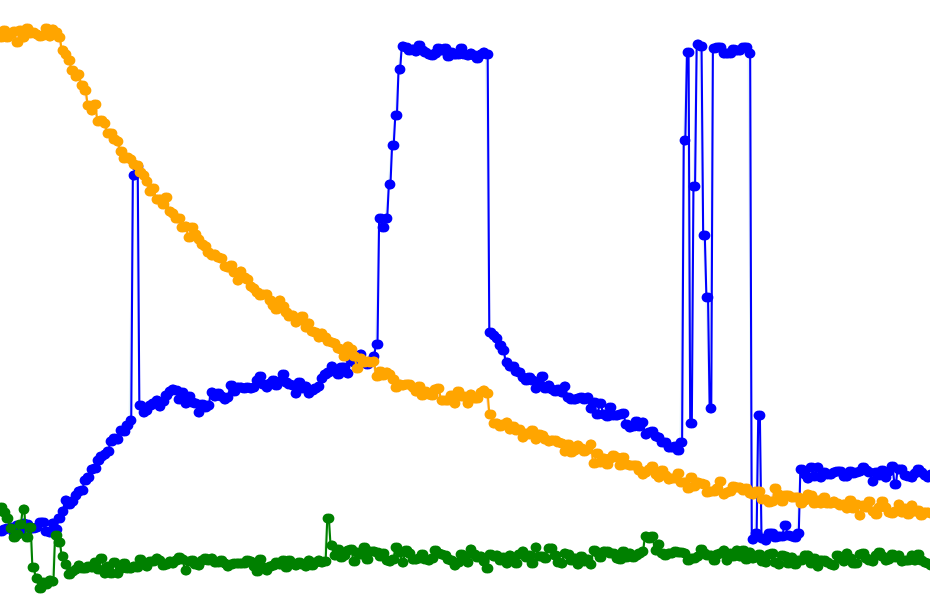CO2 Problem: (311, 0, 738, 616), (738, 0, 930, 616), (155, 0, 311, 616), (38, 0, 155, 616)
Condensation CO2: (38, 0, 311, 616), (388, 0, 583, 616), (738, 0, 930, 616), (777, 0, 930, 616), (311, 0, 388, 616), (661, 0, 738, 616)
Condensation O2: (777, 0, 930, 616), (622, 0, 738, 616), (311, 0, 388, 616)
High CO2: (349, 0, 505, 616), (622, 0, 738, 616)
High O2: (38, 0, 311, 616), (311, 0, 505, 616), (155, 0, 311, 616), (777, 0, 930, 616), (38, 0, 155, 616)
Low CO2: (311, 0, 738, 616), (311, 0, 622, 616), (311, 0, 505, 616), (738, 0, 930, 616), (155, 0, 311, 616), (777, 0, 930, 616), (38, 0, 155, 616), (622, 0, 738, 616), (738, 0, 777, 616)
Low O2: (311, 0, 622, 616), (311, 0, 388, 616)
Normal: (0, 0, 930, 616), (311, 0, 738, 616), (311, 0, 622, 616), (349, 0, 583, 616), (505, 0, 738, 616), (311, 0, 505, 616), (738, 0, 930, 616), (155, 0, 311, 616), (349, 0, 505, 616), (777, 0, 930, 616), (38, 0, 155, 616), (155, 0, 272, 616), (505, 0, 622, 616), (622, 0, 738, 616), (38, 0, 116, 616), (738, 0, 777, 616), (0, 0, 38, 616)
O2 Problem: (311, 0, 738, 616), (311, 0, 622, 616), (738, 0, 930, 616), (155, 0, 311, 616), (777, 0, 930, 616), (622, 0, 738, 616)
